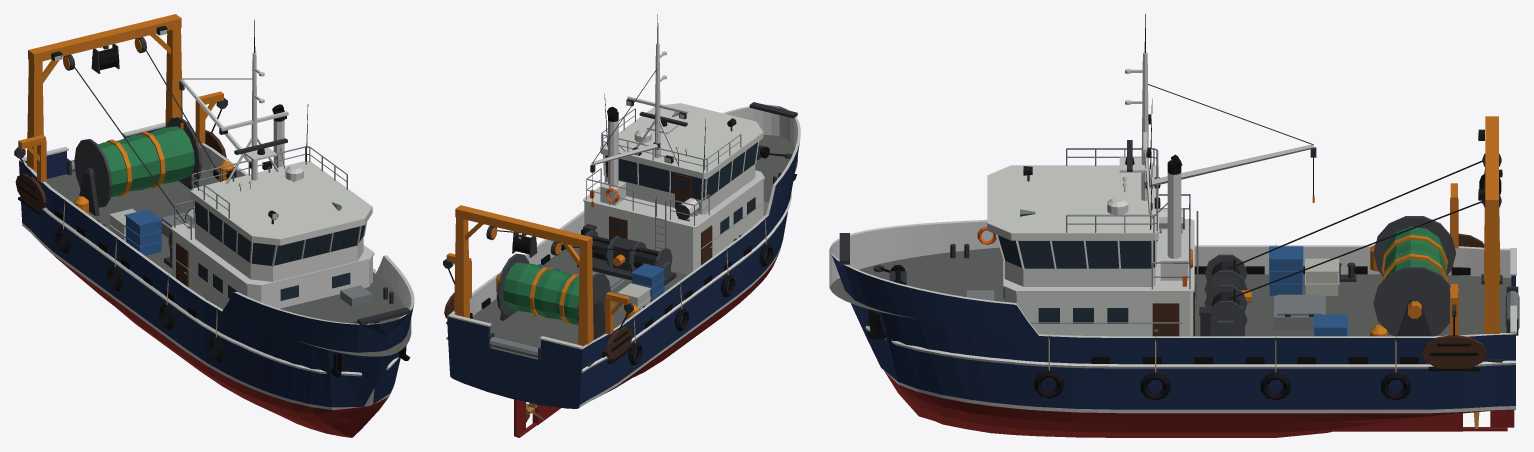
File: trawler_mid.glb
The picture shows the model from 3 angles, left to right: view 1: azimuth 30°, elevation 25°; view 2: azimuth 150°, elevation 25°; view 3: azimuth 270°, elevation 25°; orthographic projection. The views are drawn at different scales.
Visible parts, largest first — view 1: fixed, hull, gantry, net, glass, window; view 2: fixed, hull, gantry, net, glass, window; view 3: fixed, hull, gantry, glass, net, window.
Part boxes in pixels (box(x1,y1,x2,y2)): fixed: box(14, 19, 414, 437); hull: box(19, 127, 413, 407); gantry: box(18, 14, 223, 182); net: box(98, 126, 194, 197); glass: box(194, 201, 365, 265); window: box(198, 263, 350, 300); fixed: box(443, 14, 800, 437); hull: box(447, 143, 799, 408); gantry: box(446, 205, 630, 345); net: box(503, 262, 579, 324); glass: box(605, 142, 757, 200); window: box(614, 197, 755, 233); fixed: box(829, 14, 1519, 437); hull: box(831, 253, 1515, 409); gantry: box(1241, 116, 1500, 335); glass: box(998, 235, 1154, 268); net: box(1384, 226, 1446, 276); window: box(1003, 283, 1195, 323).
Bounding box in the file's own units: 8.25 × 13.38 × 20.1.
